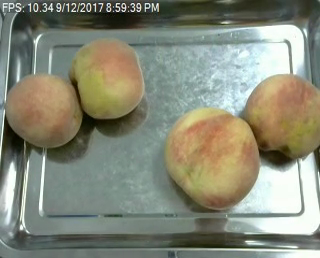Peach: (166, 108, 260, 210), (244, 72, 319, 156), (71, 38, 145, 120), (5, 72, 82, 148)
